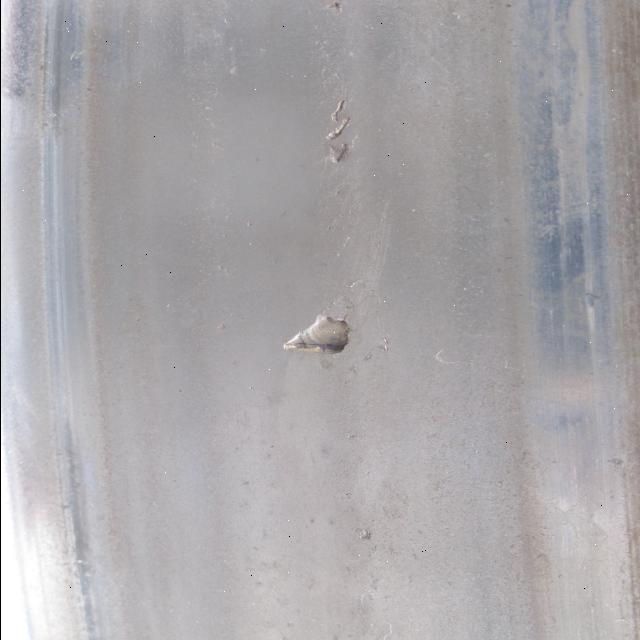boli: (269, 300, 359, 384)
